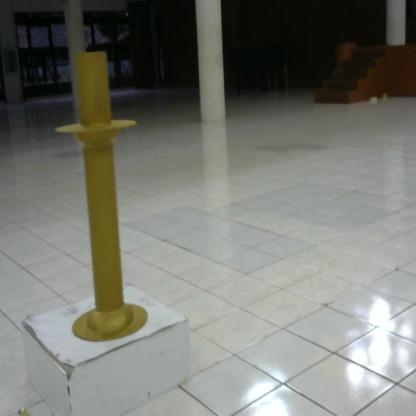pole: (50, 48, 161, 362)
